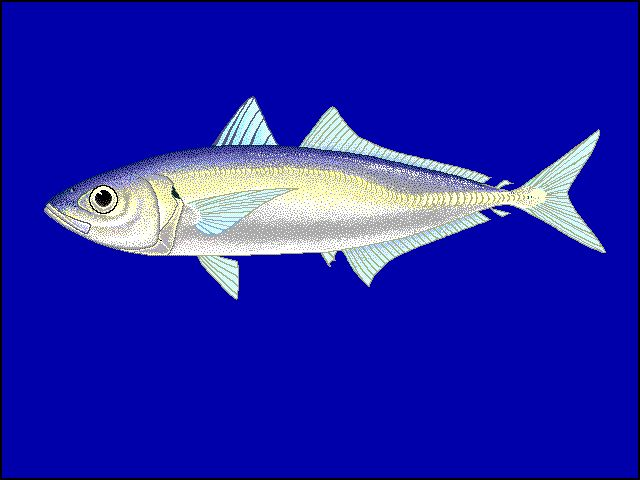fish: (42, 96, 607, 301)
